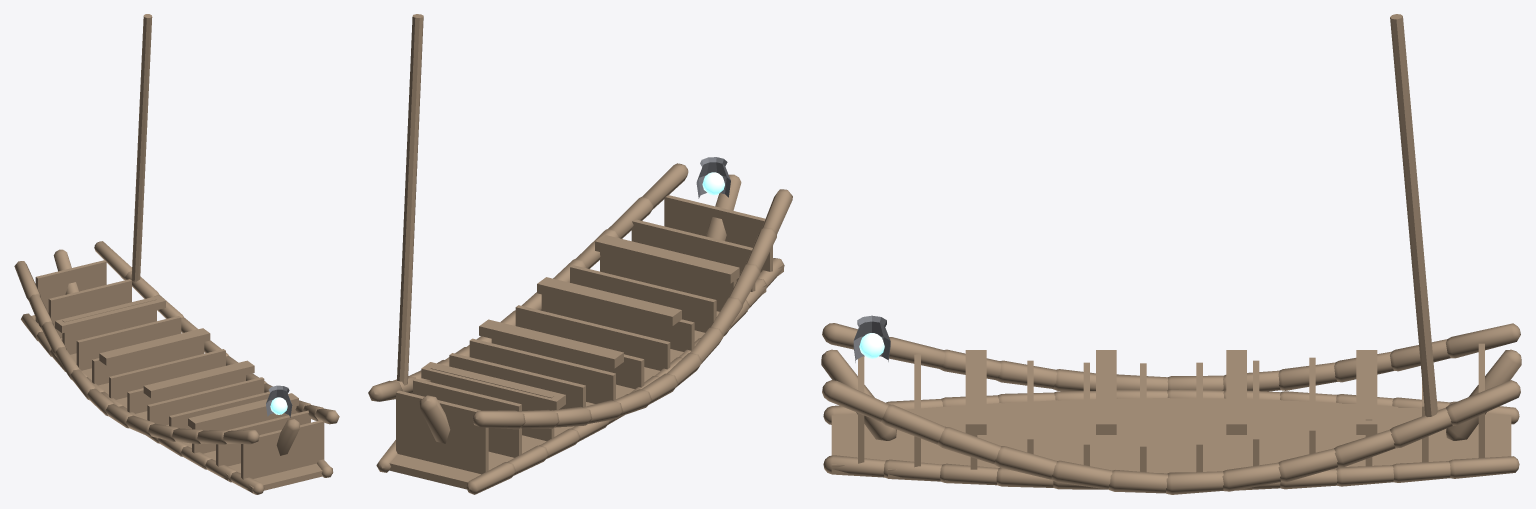
Rendered from mythic-underworld-and-olympus-charon-ferry-c16ecba5__21355.glb.
3 renders of one model, left to right at view 1: azimuth 30°, elevation 25°; view 2: azimuth 150°, elevation 25°; view 3: azimuth 270°, elevation 25°, orthographic. The views are drawn at different scales.
Parts seen in each view (by area): view 1: charon-ferry; view 2: charon-ferry; view 3: charon-ferry.
Part boxes in pixels (x1,y1,x2,y2): charon-ferry: (14,14,339,494); charon-ferry: (368,14,792,494); charon-ferry: (821,14,1521,494).
Bounding box in the file's own units: 1.93 × 3.95 × 5.38.
